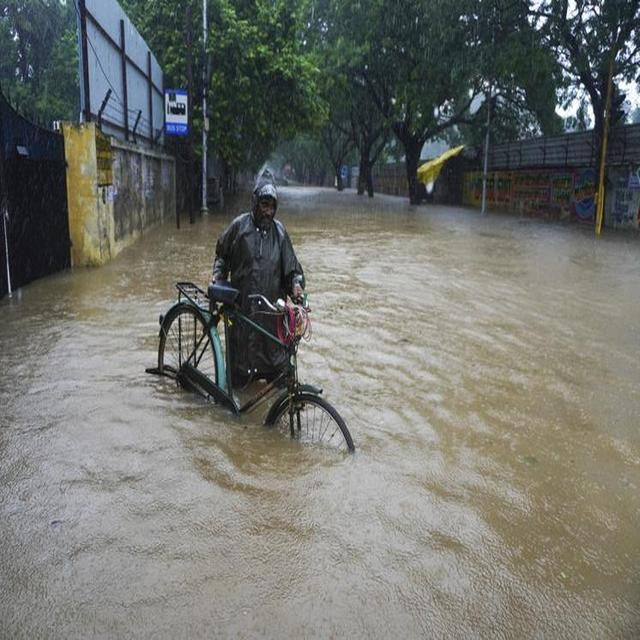Person-RiskLevel2: (213, 171, 311, 402)
